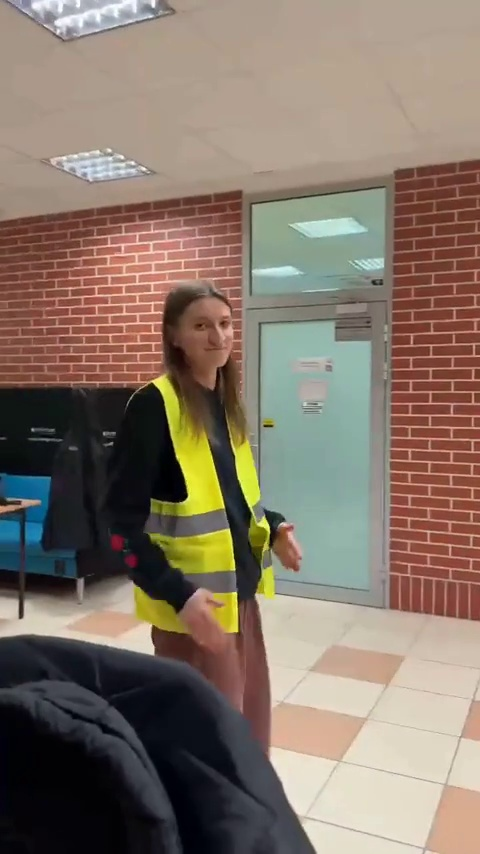vest: (99, 277, 317, 691)
